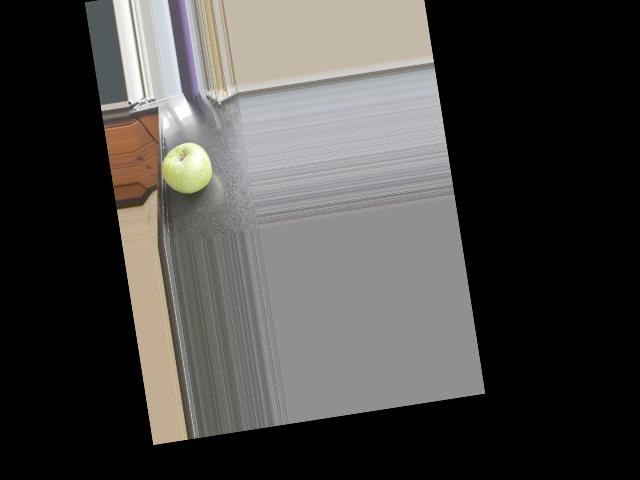apple: (156, 136, 218, 200)
